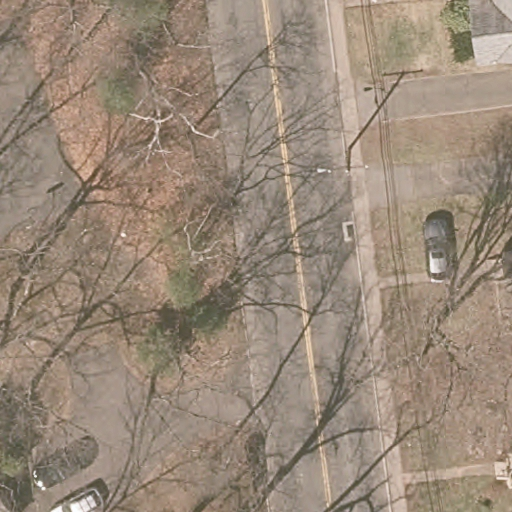DT: (317, 151, 369, 175)
